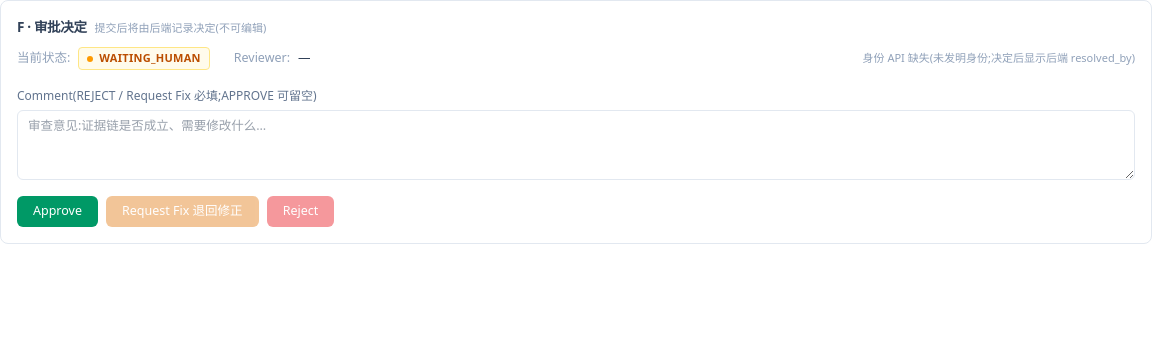
Test: Decision Panel — Phase 27.5-4 › API error: failure shown with retry, no fake status update
The image size is (1152, 358).
In the text box with test id "decision-comment": point(576, 145) [17,110,1135,180], type "理由"
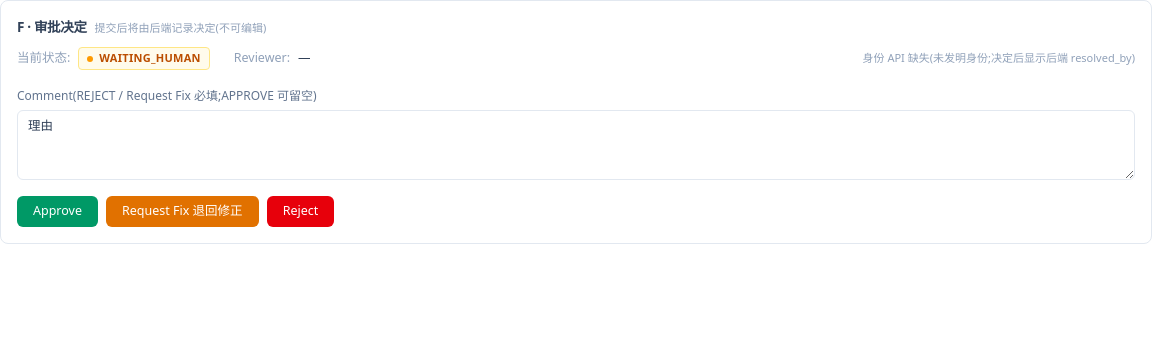
Click the button with test id "decision-reject": point(300, 211) [267,196,334,227]
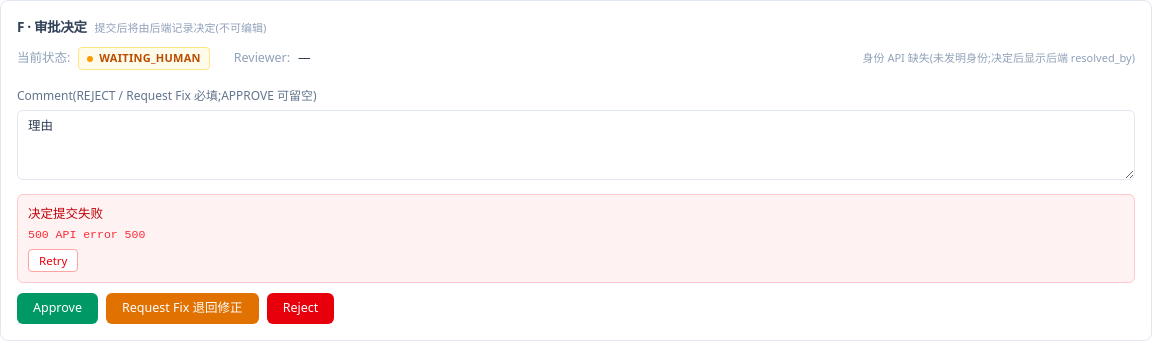
Check: the element with test id "approval-status-WAITING_HUMAN" is shown, box [78,47,210,70]
Check: the element with test id "decision-error" shows "决定提交失败", box [28,205,103,222]
Check: the button with test id "decision-retry" is shown, box [28,249,78,272]
